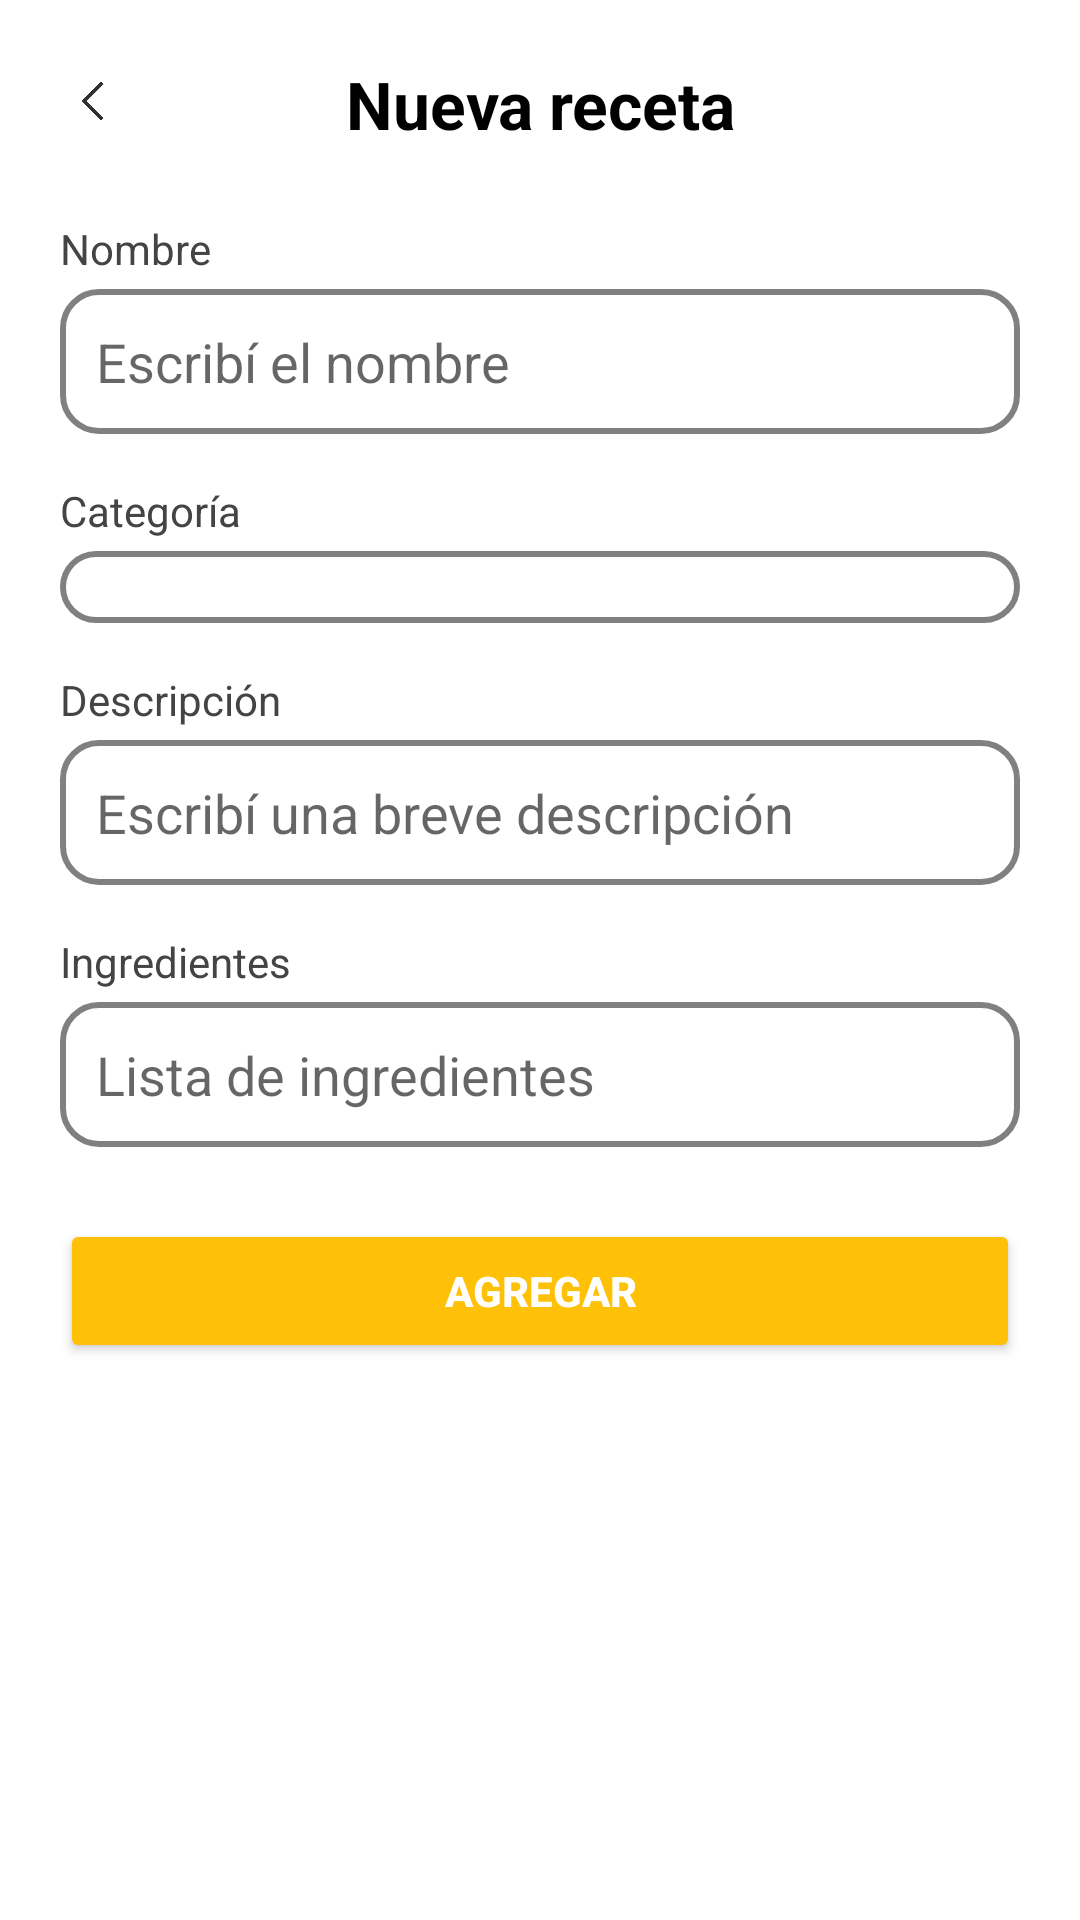

Screen size 1080×1920. Icon name, then its box in pixels as (x1, y1, x2, y2):
volver: (82, 82, 103, 120)
